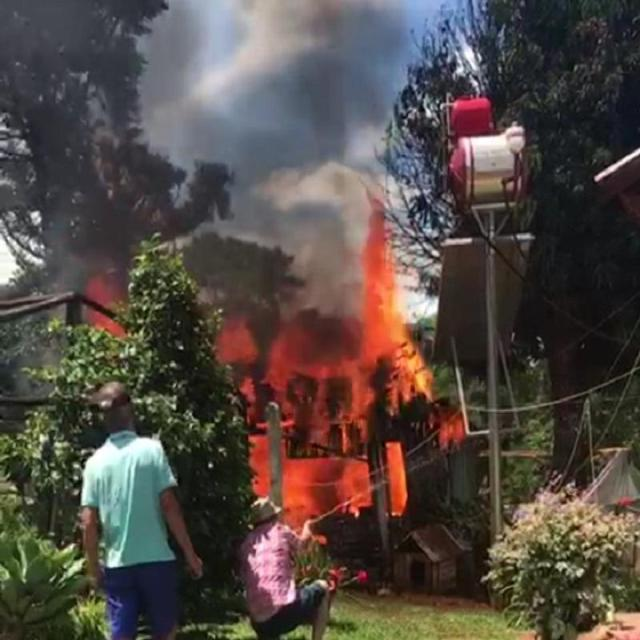Fire: (86, 294, 464, 524), (364, 188, 401, 292)
Smoke: (79, 1, 362, 282), (0, 5, 76, 438), (366, 0, 478, 183)
